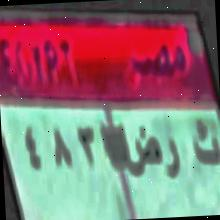3: (76, 118, 102, 170)
4: (21, 120, 42, 186)
8: (48, 122, 75, 176)
daad: (126, 120, 162, 186)
raa: (160, 138, 184, 180)
thaa: (189, 117, 220, 177)
